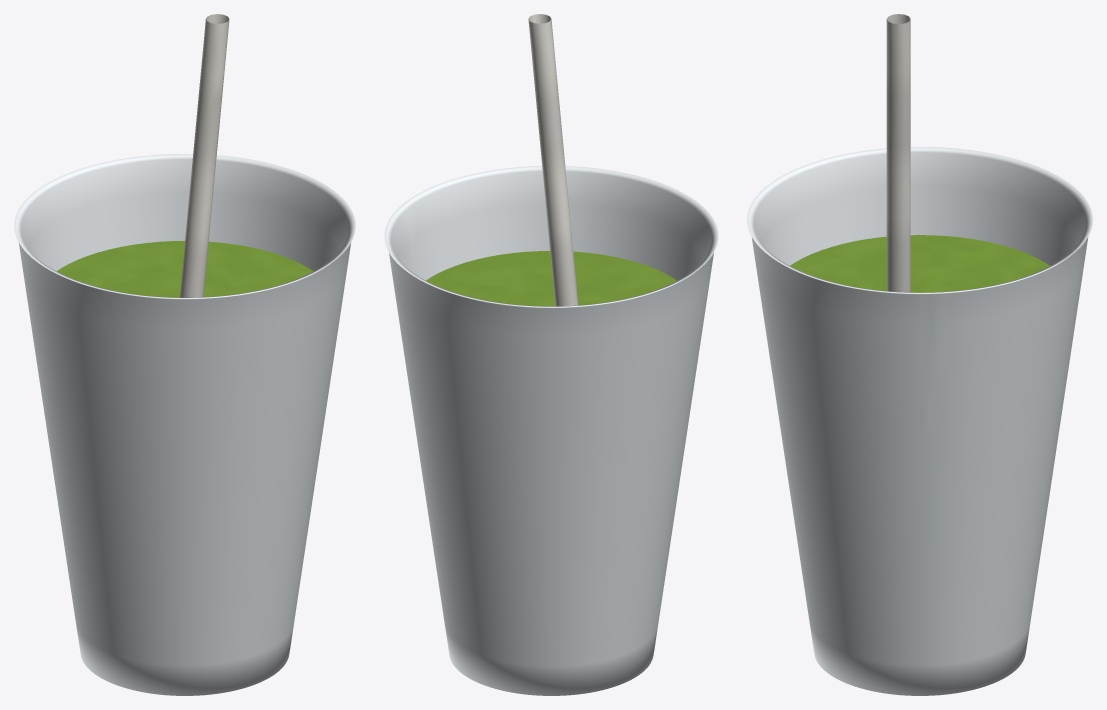
File: super-greens.glb
3 renders of one model, left to right at view 1: azimuth 30°, elevation 25°; view 2: azimuth 150°, elevation 25°; view 3: azimuth 270°, elevation 25°, orthographic. The views are drawn at different scales.
Visible parts, largest first — view 1: clear, gloss, satin; view 2: clear, gloss, satin; view 3: clear, gloss, satin.
Boxes of the visible parts, <box> form: clear: <box>14,153,355,695</box>; gloss: <box>56,241,313,297</box>; satin: <box>179,14,229,297</box>; clear: <box>384,166,718,695</box>; gloss: <box>426,251,676,306</box>; satin: <box>528,14,578,306</box>; clear: <box>747,147,1092,695</box>; gloss: <box>790,235,1049,292</box>; satin: <box>886,14,910,292</box>.
Bounding box in the file's own units: 0.098 × 0.201 × 0.098.
Materials: 3 (3 with a texture image).
